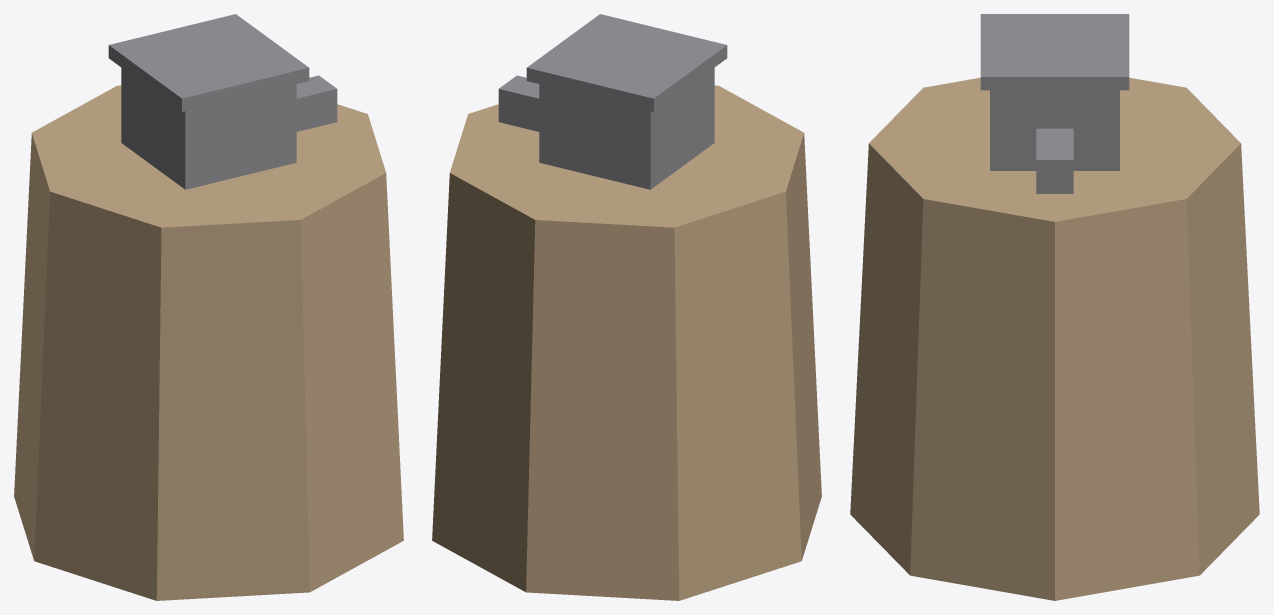
The model's file is prop-nail-anvil-block.fbx.
3 views of the same model, side by side, from view 1: azimuth 30°, elevation 25°; view 2: azimuth 150°, elevation 25°; view 3: azimuth 270°, elevation 25° (orthographic).
Parts seen in each view (by area): view 1: prop-nail-anvil-block; view 2: prop-nail-anvil-block; view 3: prop-nail-anvil-block.
Part boxes in pixels (x1,y1,x2,y2): prop-nail-anvil-block: [14, 14, 403, 600]; prop-nail-anvil-block: [432, 14, 821, 600]; prop-nail-anvil-block: [850, 14, 1259, 600].
Size of the model in its own units: 22 by 27.8 by 22.
